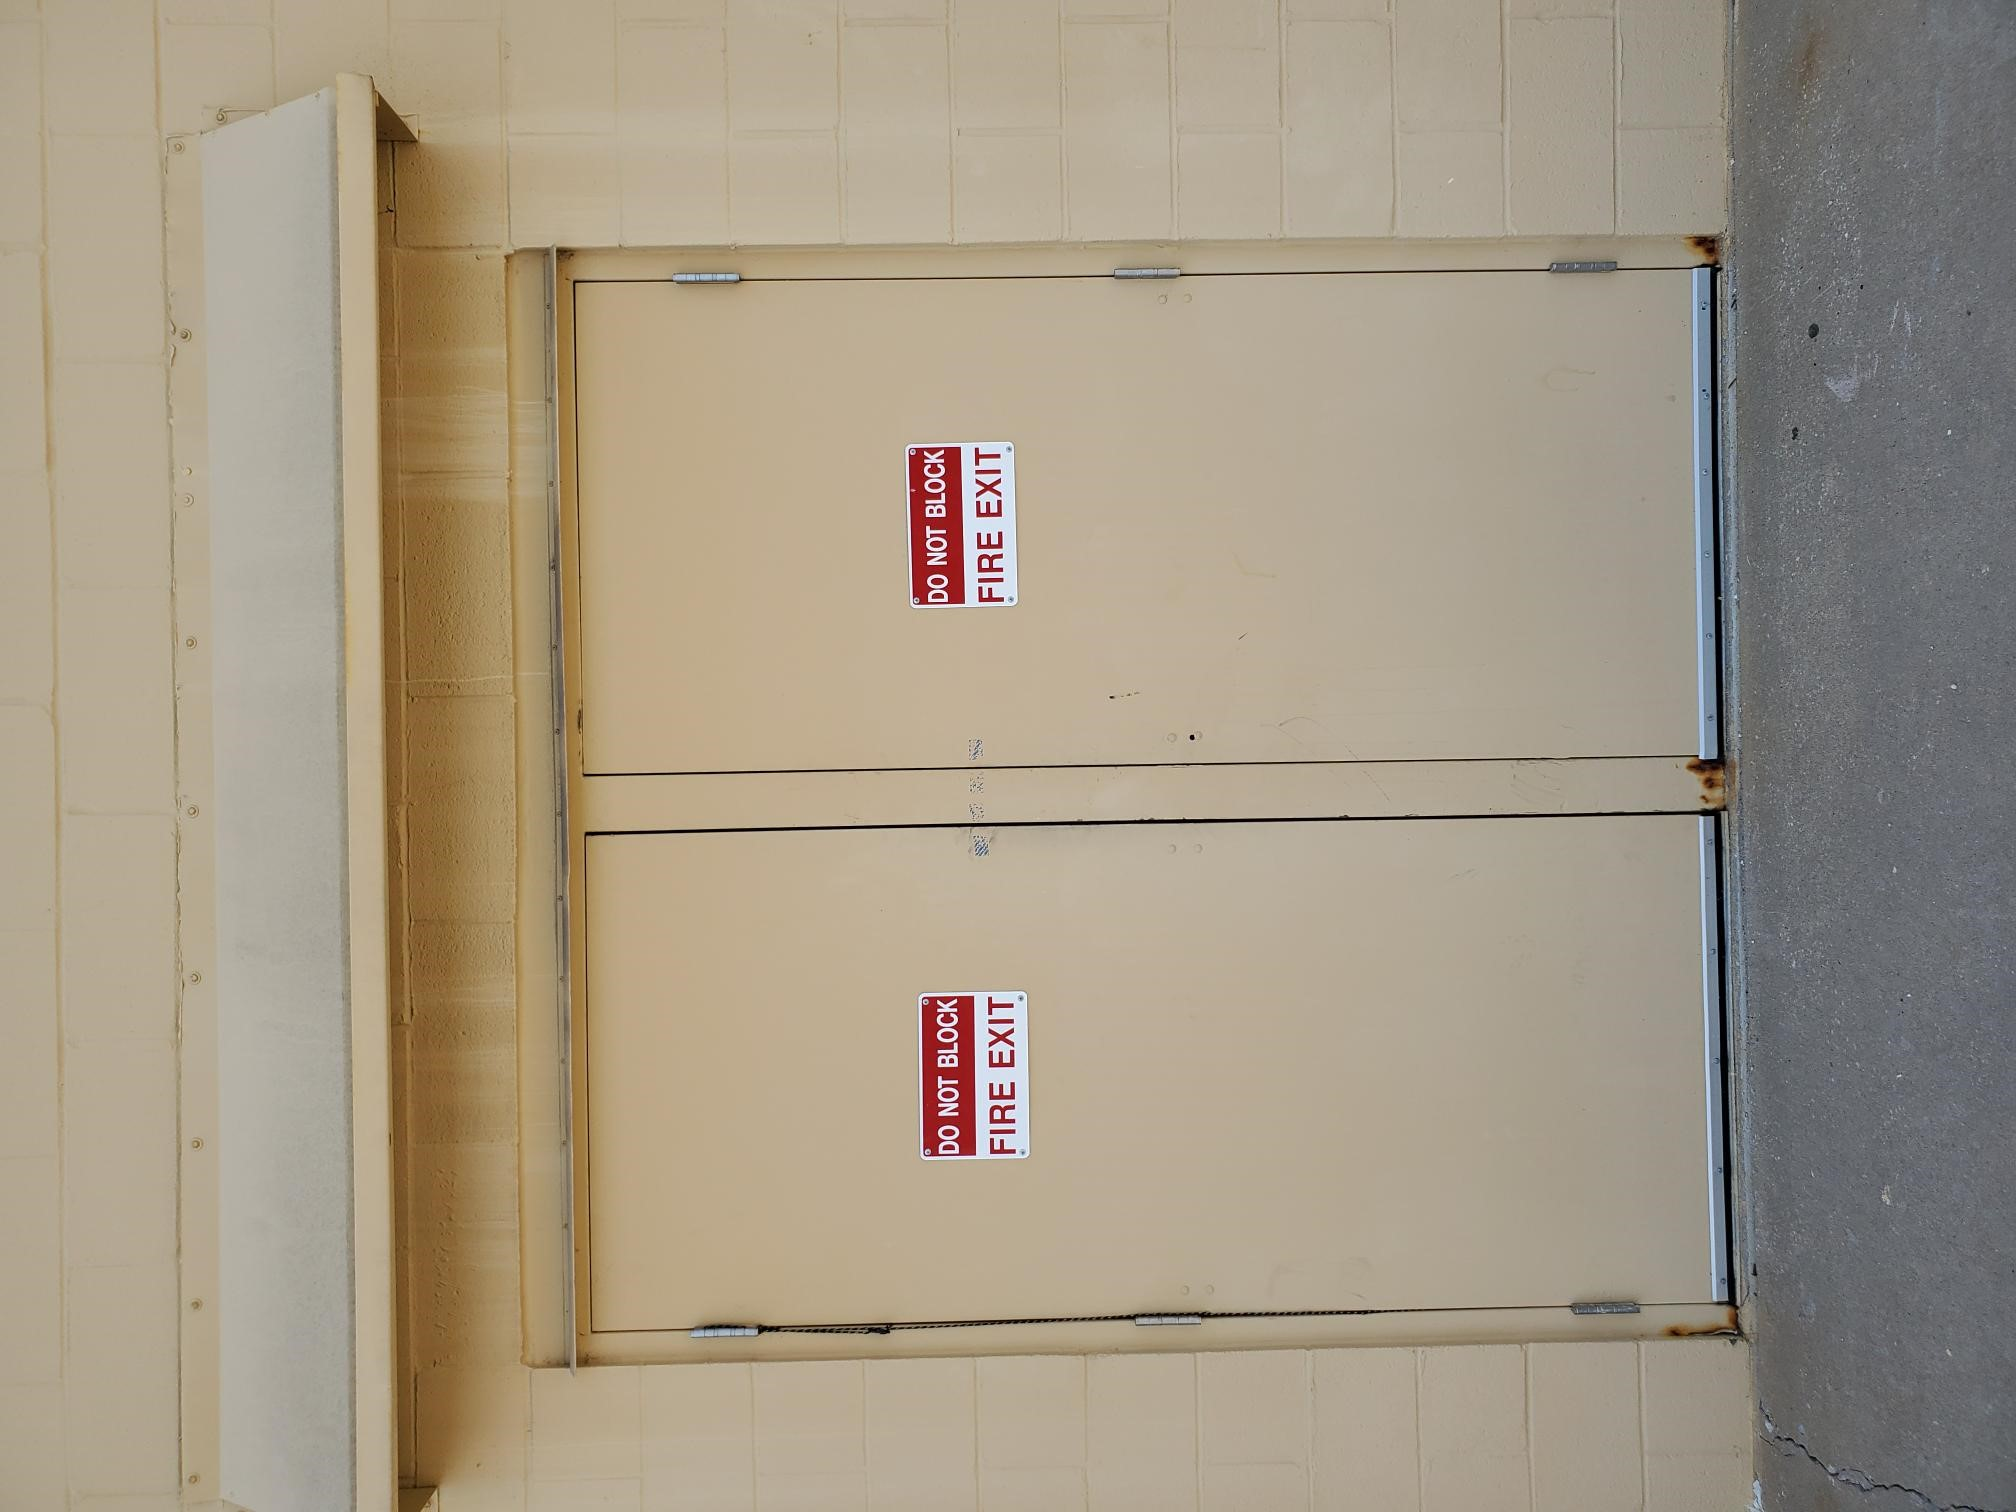rust: (1694, 230, 1727, 272)
